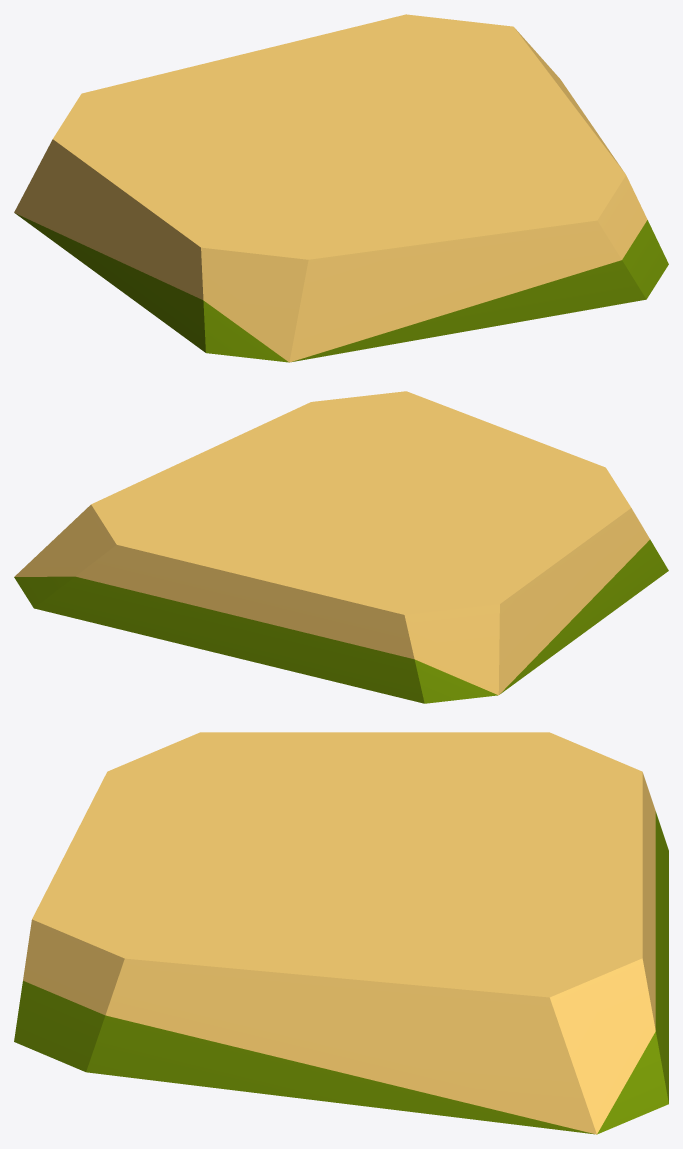
File: Rock_02.fbx
3 renders of one model, top to bottom at view 1: azimuth 30°, elevation 25°; view 2: azimuth 150°, elevation 25°; view 3: azimuth 270°, elevation 25°, orthographic. The views are drawn at different scales.
Parts seen in each view (by area): view 1: Rock_02; view 2: Rock_02; view 3: Rock_02.
Boxes of the visible parts, <box> form: Rock_02: <box>14,14,668,362</box>; Rock_02: <box>14,391,668,703</box>; Rock_02: <box>14,732,668,1134</box>.
Size of the model in its own units: 358 by 52.41 by 315.
